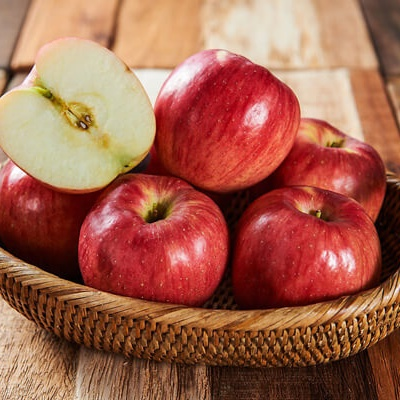apple: (1, 34, 158, 197), (142, 48, 299, 194), (227, 188, 381, 324), (76, 169, 225, 309), (1, 153, 98, 273), (281, 115, 387, 213)
